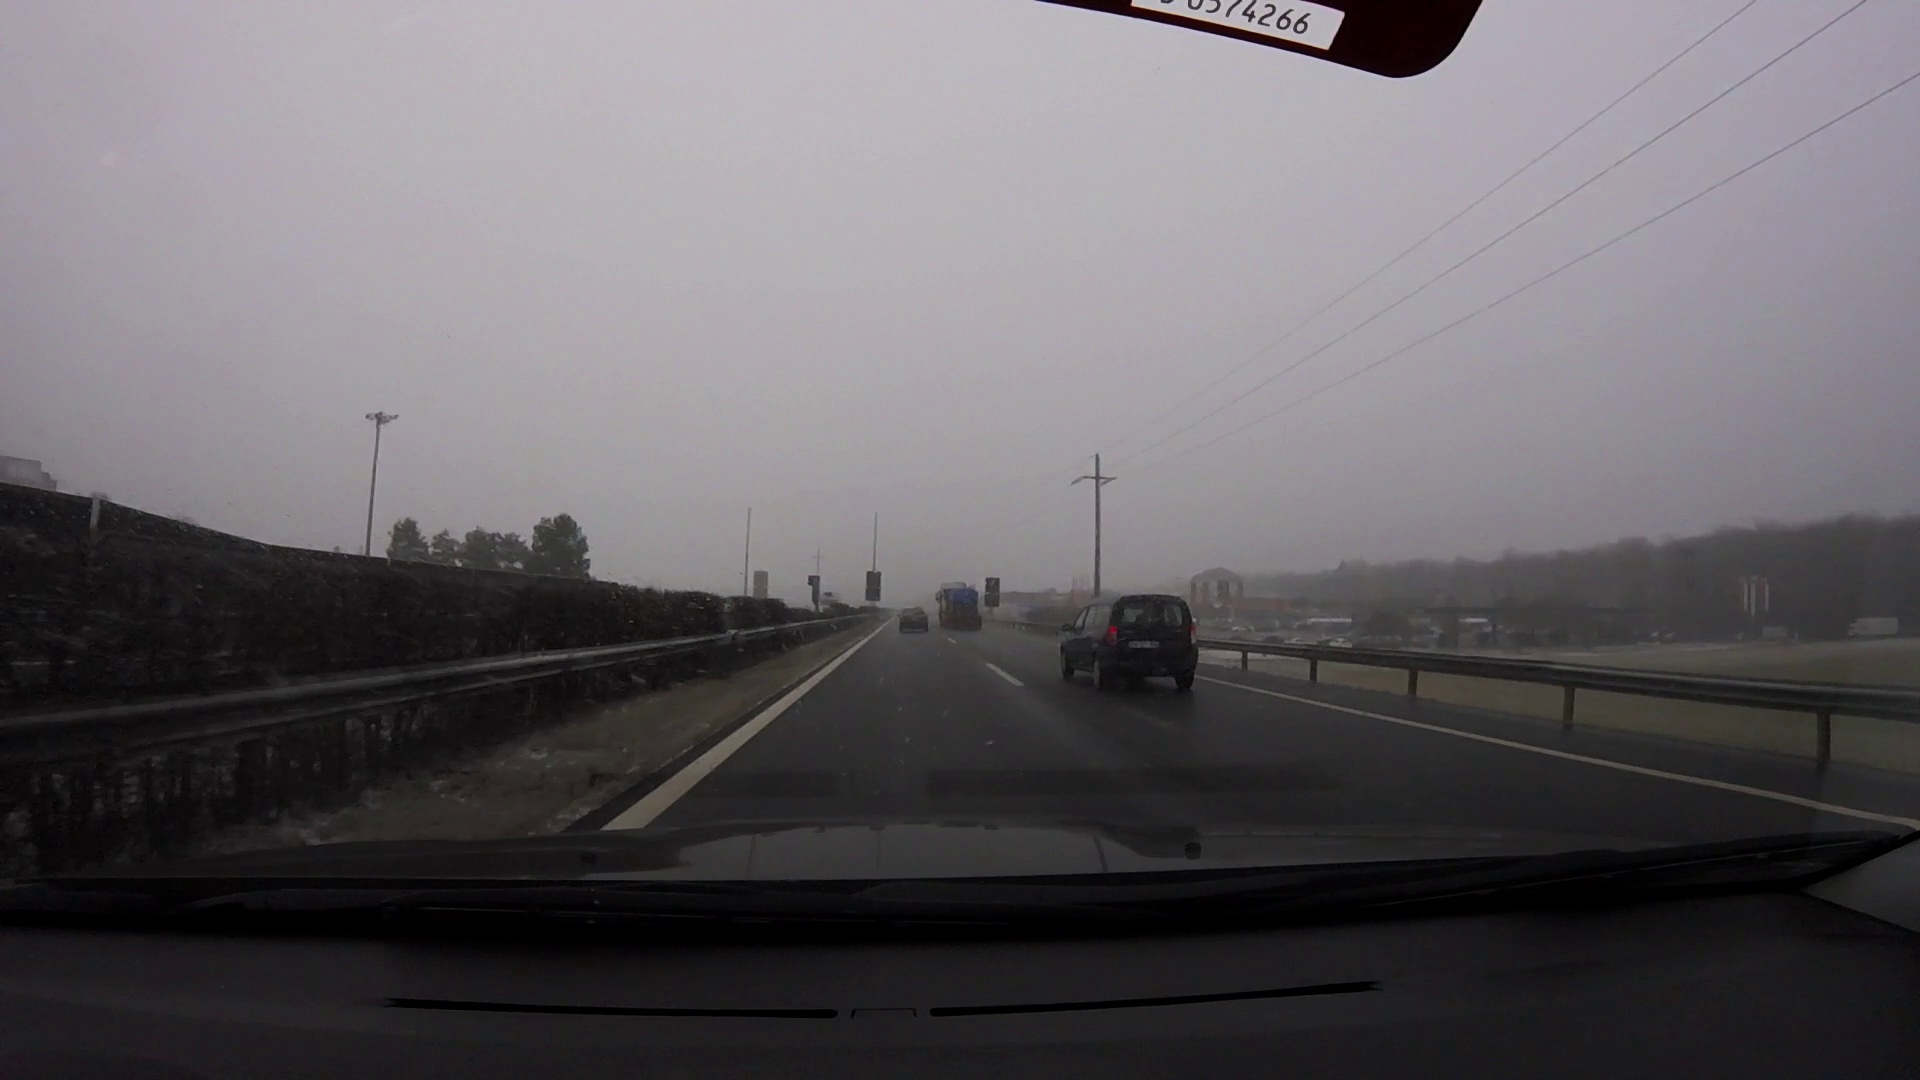radar: (807, 575, 822, 607)
